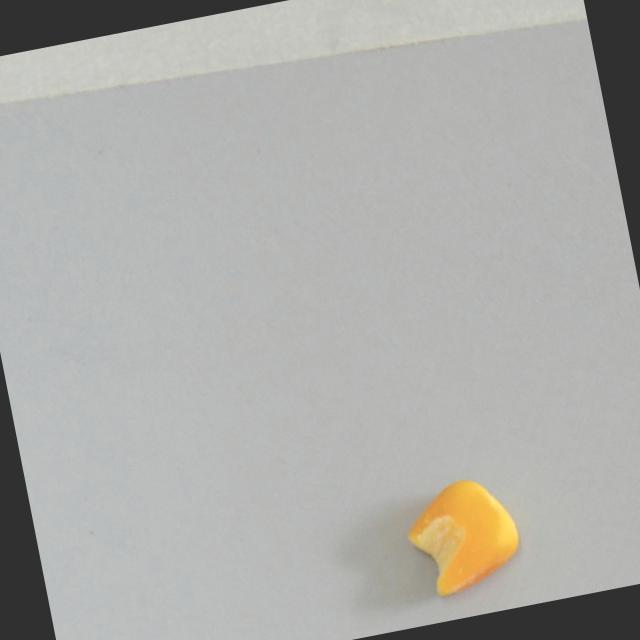no_desgerminado: (399, 469, 530, 601)
